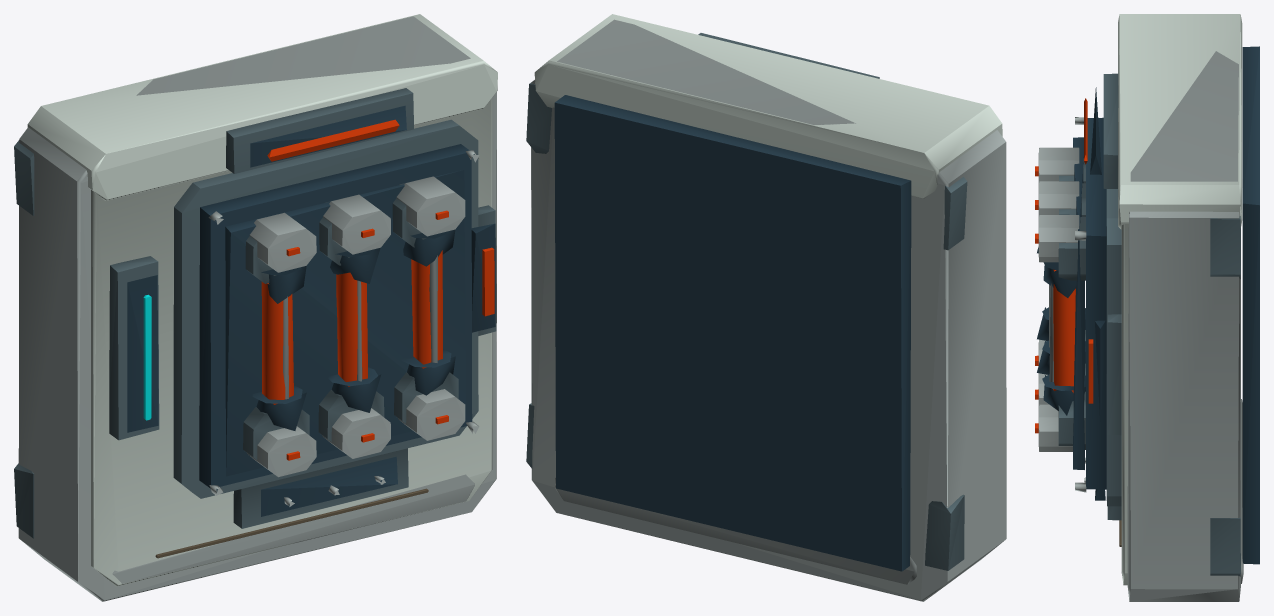
File: coffret-fusibles.glb
The picture shows the model from 3 angles, left to right: view 1: azimuth 30°, elevation 25°; view 2: azimuth 150°, elevation 25°; view 3: azimuth 270°, elevation 25°; orthographic projection. The views are drawn at different scales.
Parts seen in each view (by area): view 1: corps__gris_clair, corps__gris_clair2, corps__bleu_nuit, corps__cyan_fonce, corps__lum_orange, corps__gris_clair3, corps__brun, corps__lum_cyan; view 2: corps__bleu_nuit, corps__gris_clair, corps__gris_clair2, corps__cyan_fonce; view 3: corps__gris_clair, corps__bleu_nuit, corps__gris_clair2, corps__cyan_fonce, corps__lum_orange, corps__gris_clair3.
Boxes of the visible parts, x1,y1,x2,y2 form: corps__gris_clair: (18,16,496,601); corps__gris_clair2: (27,14,497,586); corps__bleu_nuit: (127,105,495,516); corps__cyan_fonce: (14,88,496,538); corps__lum_orange: (261,119,494,460); corps__gris_clair3: (208,150,479,506); corps__brun: (155,488,428,558); corps__lum_cyan: (143,294,151,420); corps__bleu_nuit: (554,95,911,571); corps__gris_clair: (531,19,1006,601); corps__gris_clair2: (534,14,1002,198); corps__cyan_fonce: (526,33,967,570); corps__gris_clair: (1038,51,1243,601); corps__bleu_nuit: (1037,46,1259,564); corps__gris_clair2: (1118,14,1242,585); corps__cyan_fonce: (1058,73,1240,576); corps__lum_orange: (1035,98,1093,433); corps__gris_clair3: (1049,117,1086,492).
Bounding box in the file's own units: 0.579 × 0.5997 × 0.2845.
